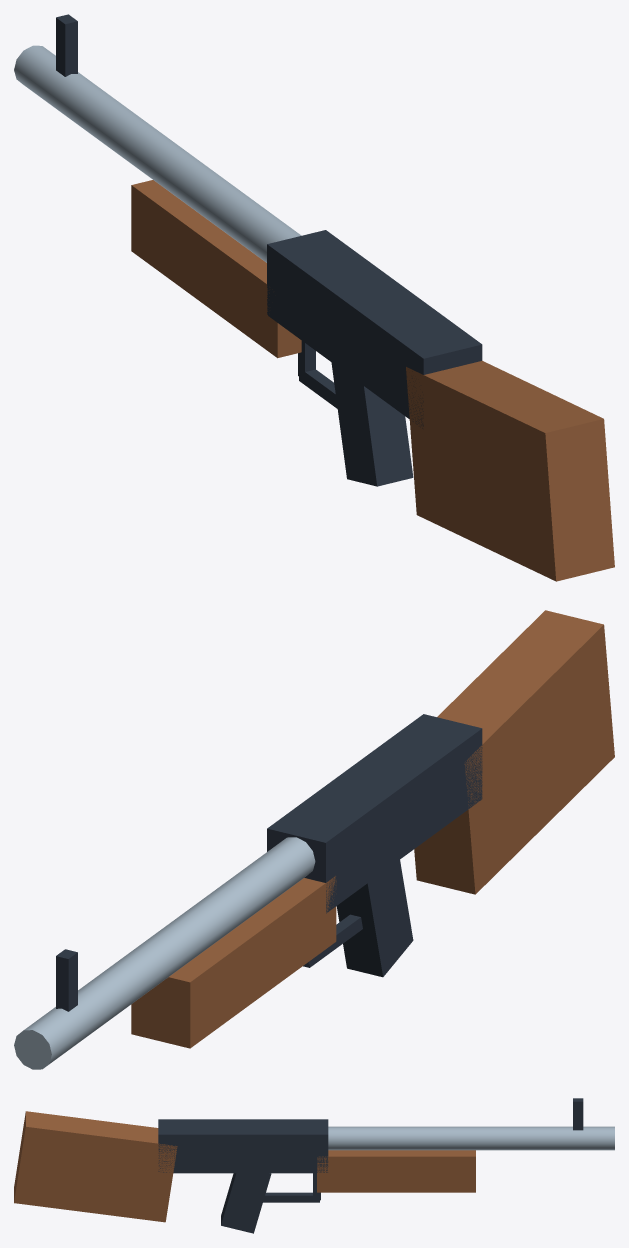
File: rifle.gltf
The picture shows the model from 3 angles, top to bottom: view 1: azimuth 30°, elevation 25°; view 2: azimuth 150°, elevation 25°; view 3: azimuth 270°, elevation 25°; orthographic projection. The views are drawn at different scales.
Visible parts, largest first — view 1: Rifle; view 2: Rifle; view 3: Rifle.
Part boxes in pixels (<box>): Rifle: <box>14,14,614,581</box>; Rifle: <box>14,610,614,1069</box>; Rifle: <box>14,1098,614,1233</box>.
Size of the model in its own units: 0.065 by 0.2507 by 1.06.
